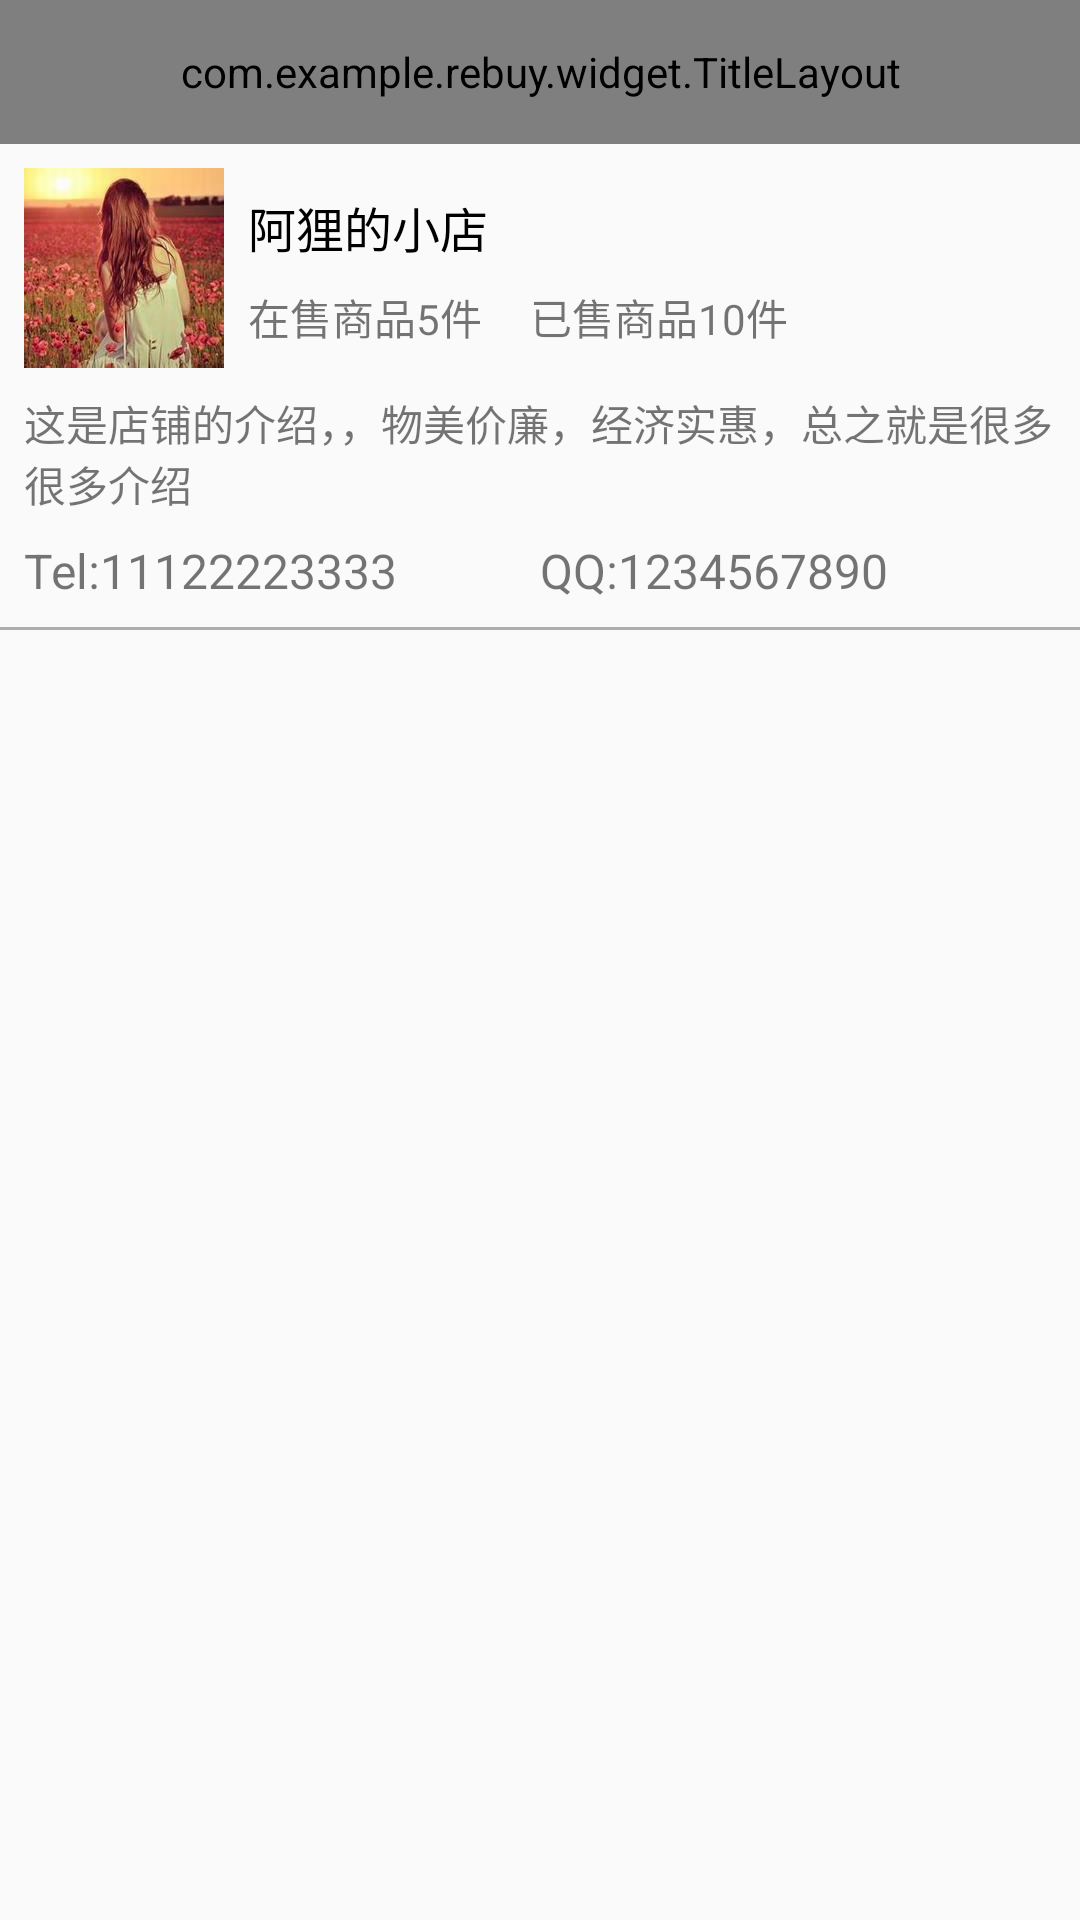

Where to tap for icons on this 1080*1920 app screen, as [x,y]:
head: [124,268]
